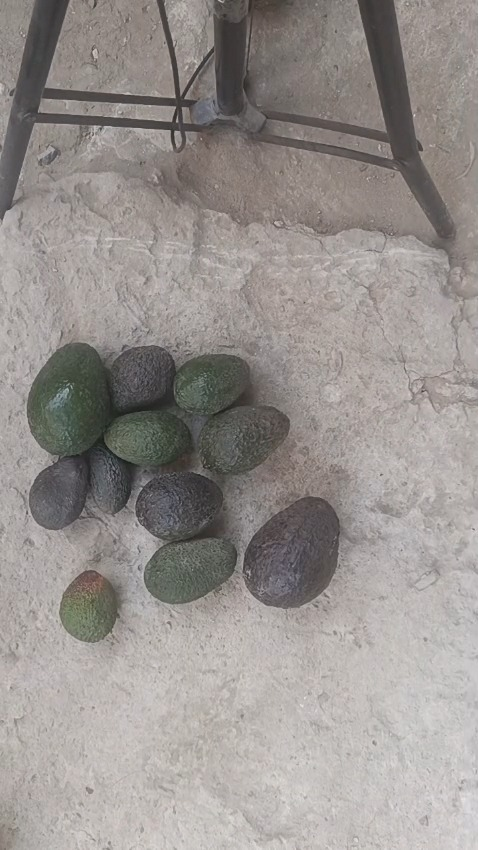Primera: (243, 499, 341, 609), (25, 344, 110, 459)
Segunda: (198, 406, 292, 478), (136, 470, 226, 543), (146, 537, 238, 604)
Tercera: (105, 345, 178, 414), (104, 411, 192, 468), (174, 353, 251, 416), (30, 458, 90, 531), (61, 571, 121, 643), (88, 447, 133, 516)
